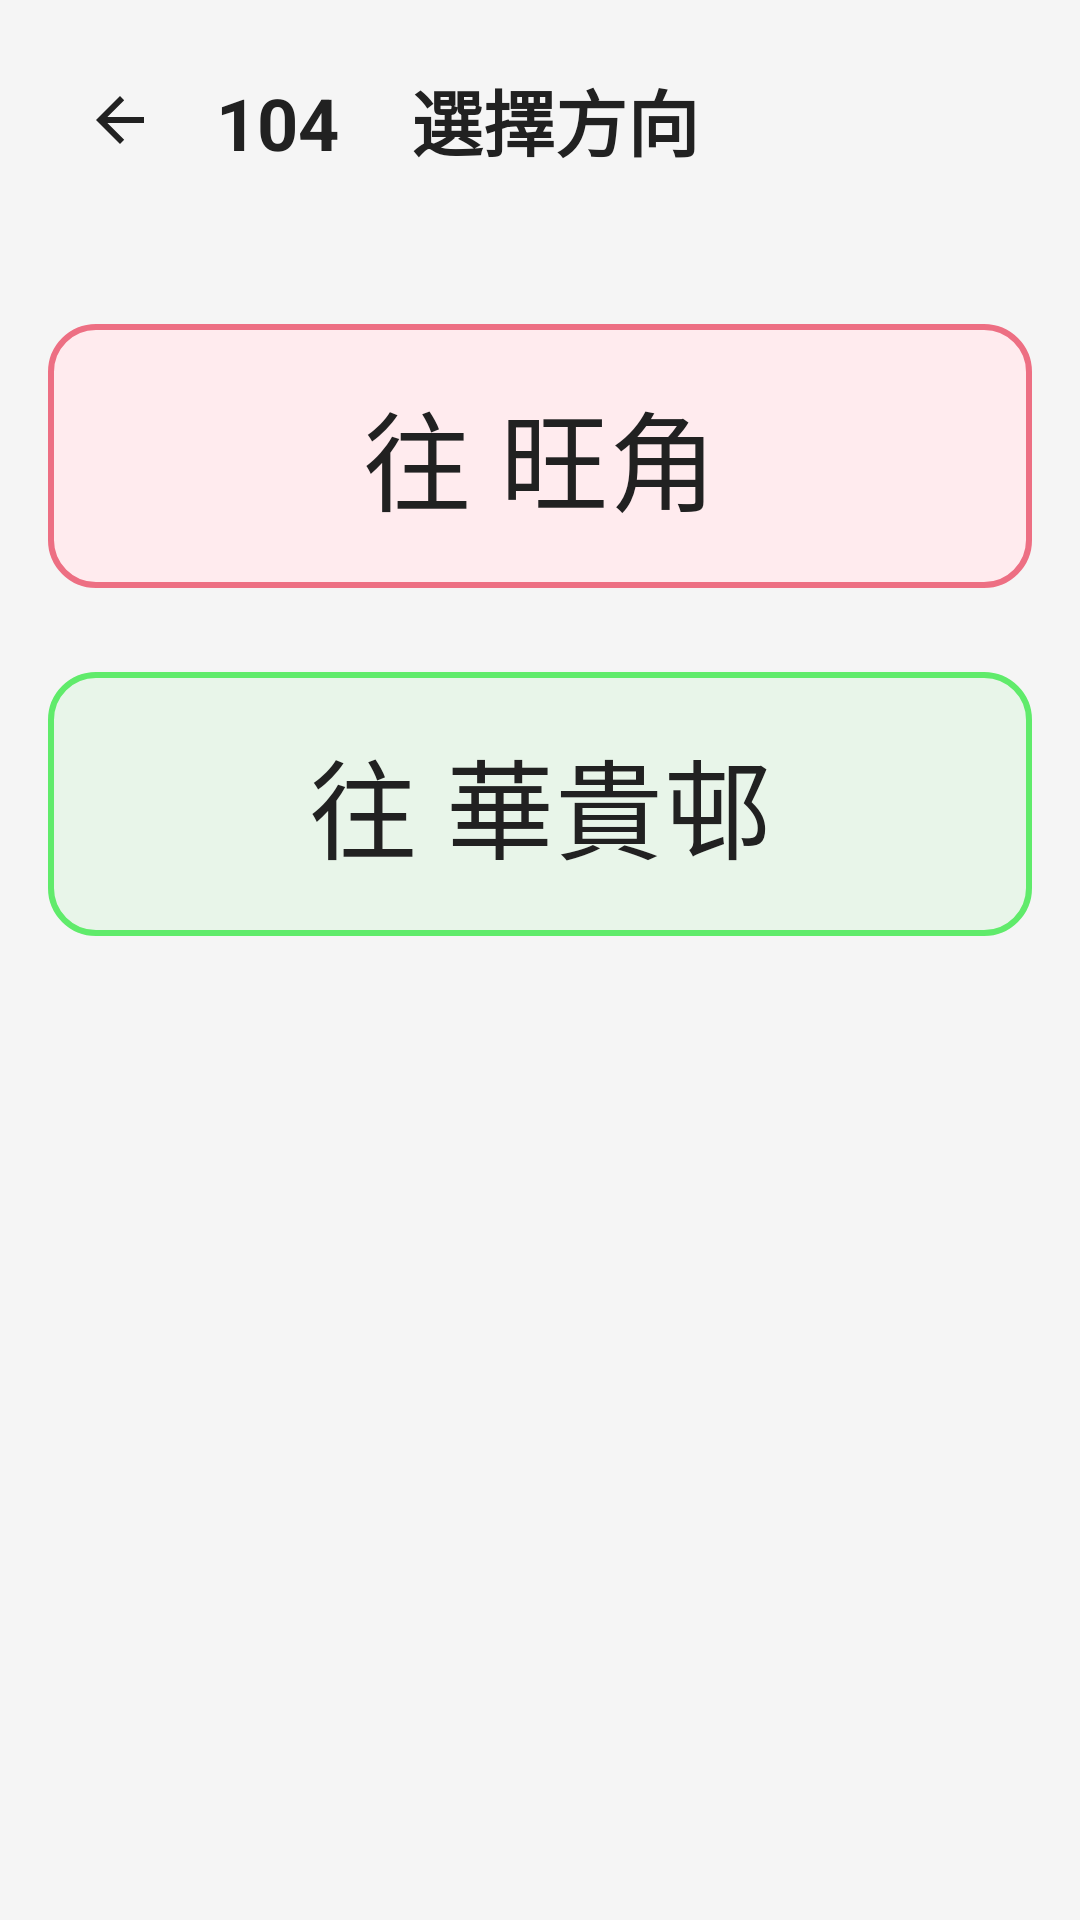

Locate icon controls on the screen. Image size 1080 × 1920, boxes as (x1, y1, x2, y2).
返回: (96, 96, 144, 144)
